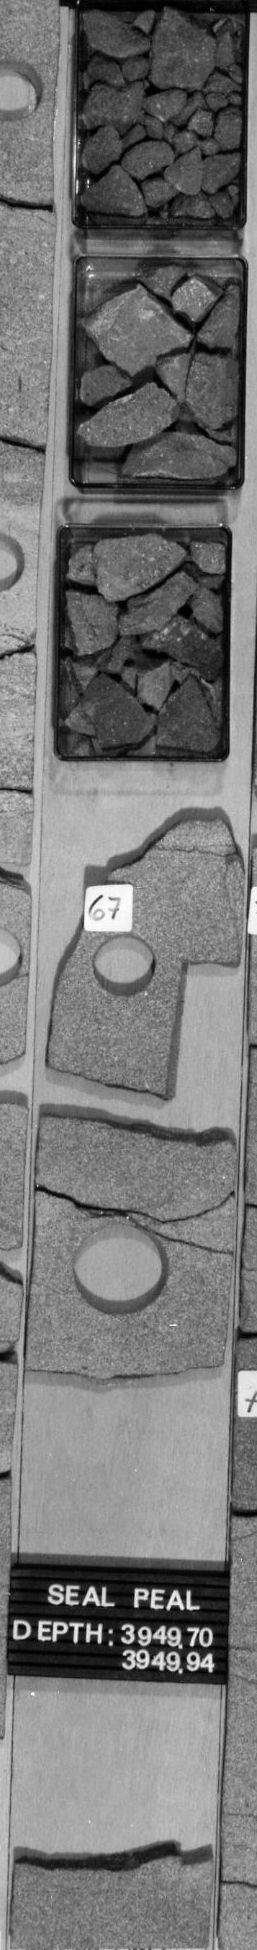hplug: (87, 931, 169, 997)
scal: (67, 1214, 171, 1319)
vplug: (168, 948, 237, 1101)
